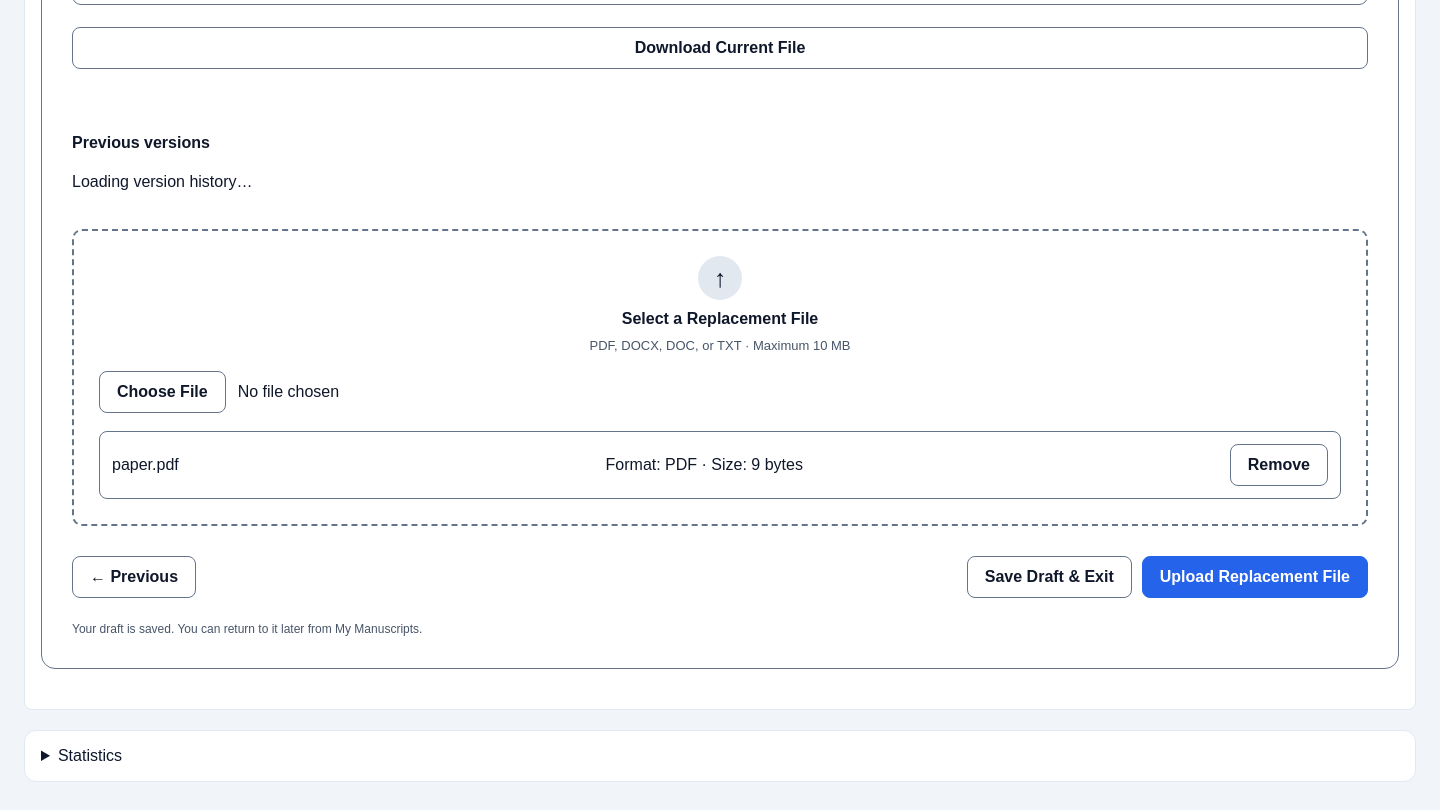
Test case: revalidates only the uploaded manuscript after wizard replacement paper.pdf
Earlier steps of the test are not shown.
(page scrolled)
Click the button "Upload Replacement File" at x=1255, y=577, box x1=1142 y1=556 x2=1368 y2=598
(page scrolled)
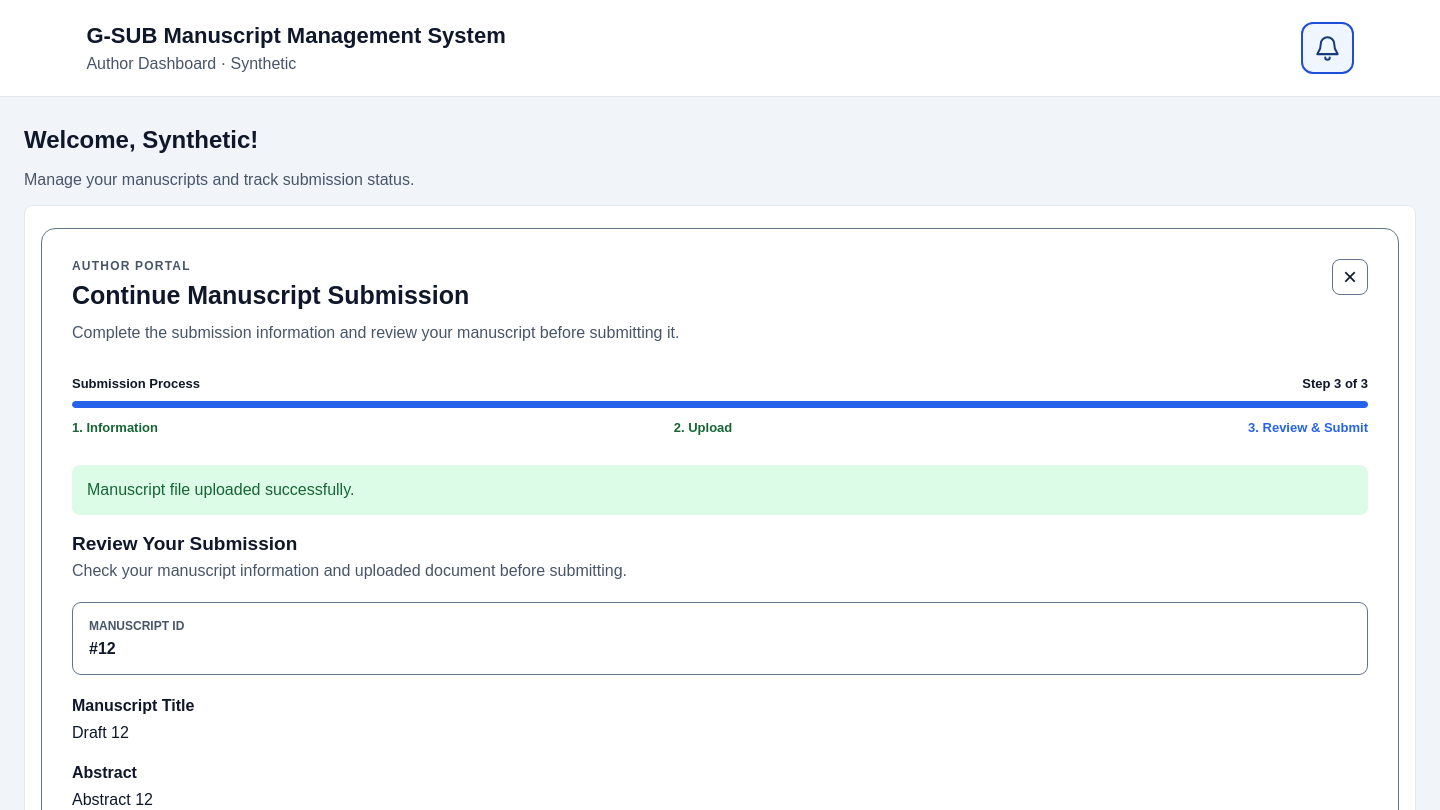
Expected: the heading "Review Your Submission" is shown, x1=72 y1=533 x2=297 y2=554
Click the button named "Close submission wizard" at x=1350, y=277, box x1=1332 y1=259 x2=1368 y2=295
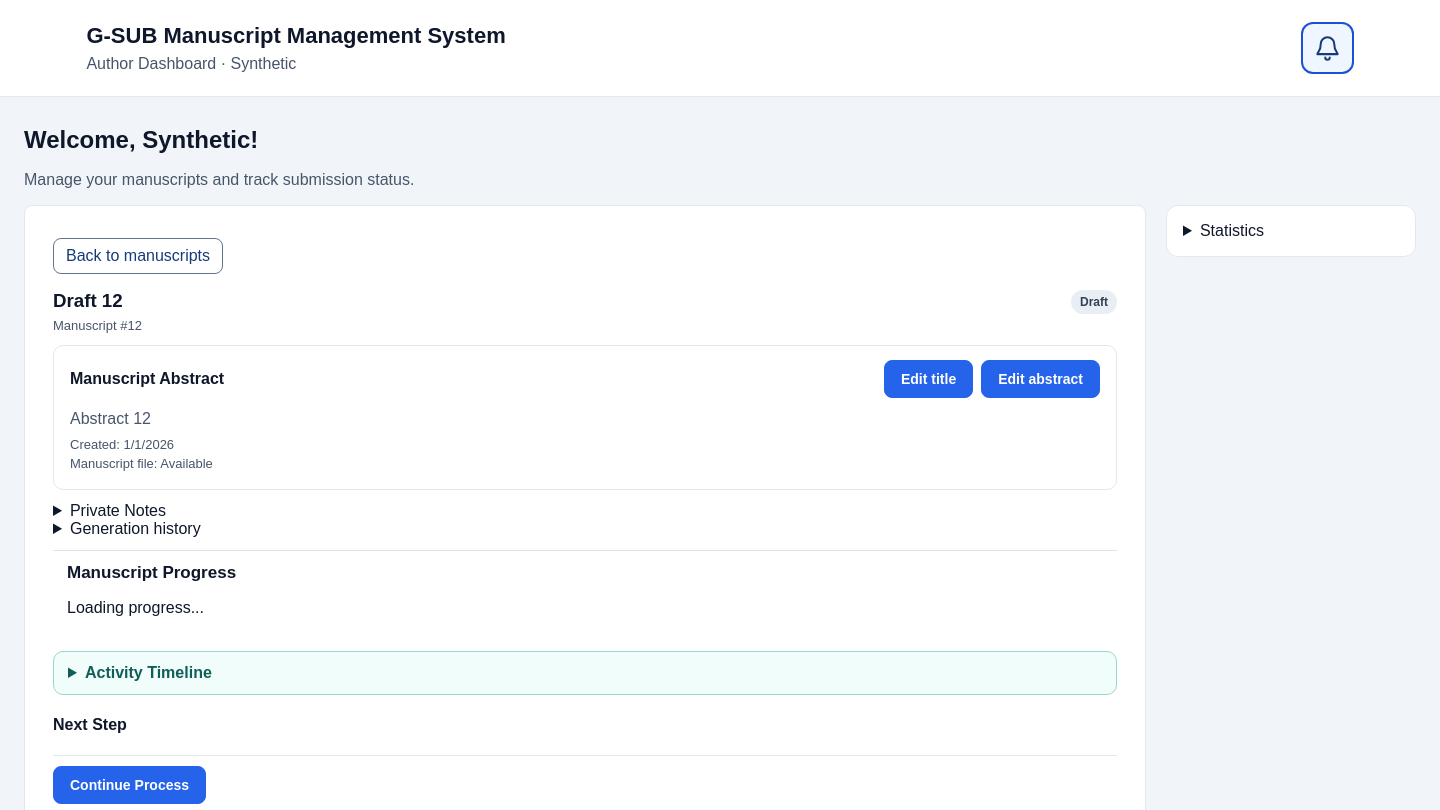
Expected: the button "Edit title" is shown, x1=884 y1=360 x2=973 y2=398
Click the button "Back to manuscripts" at x=138, y=256, box x1=53 y1=238 x2=223 y2=274
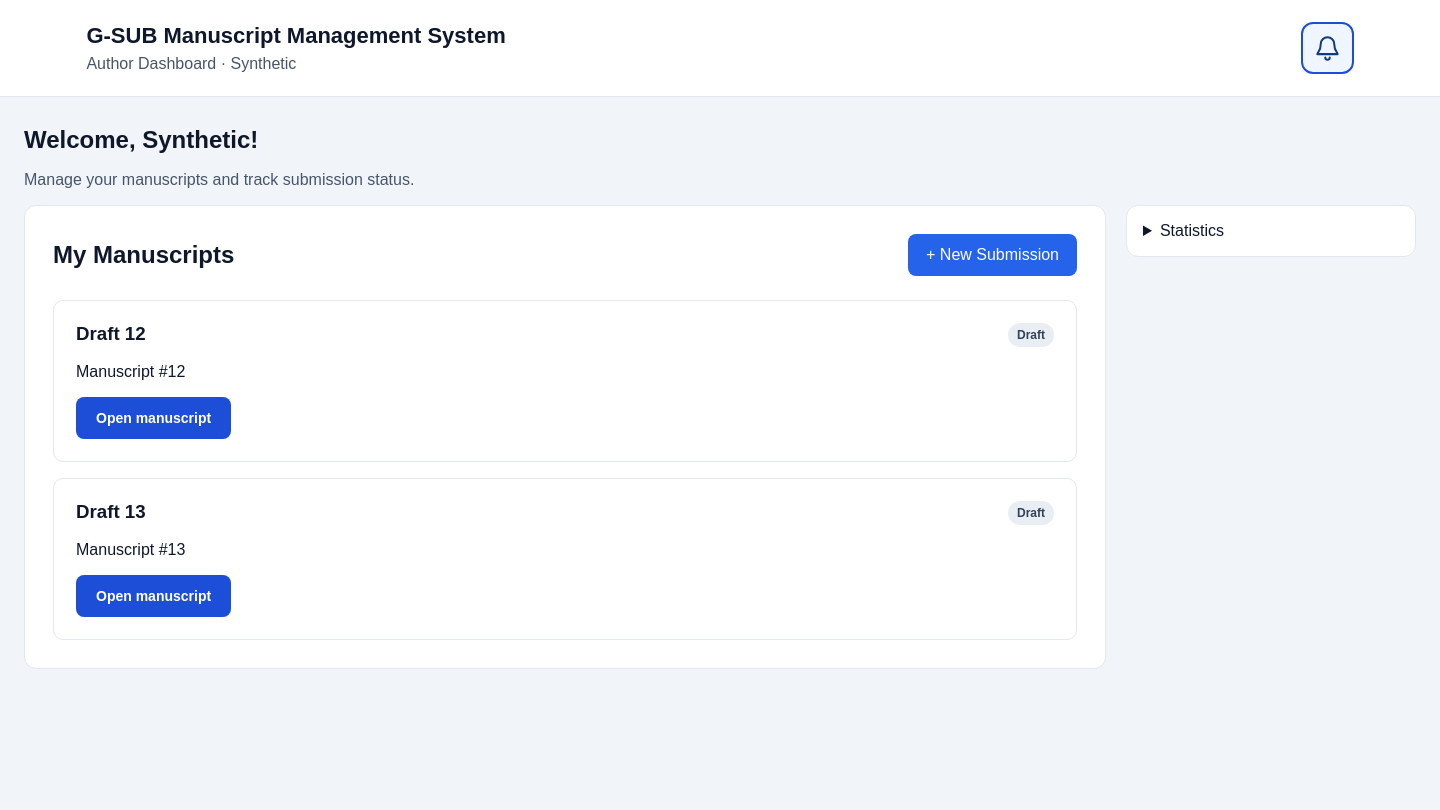
Expected: the heading "Draft 13" is shown, x1=76 y1=501 x2=146 y2=522
